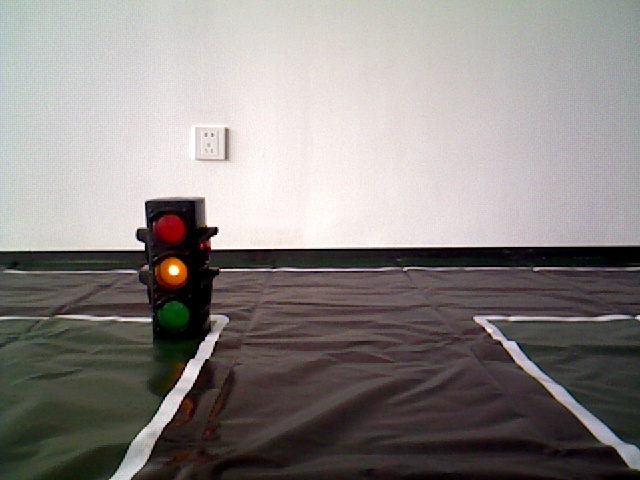yellow: (147, 198, 209, 339)
